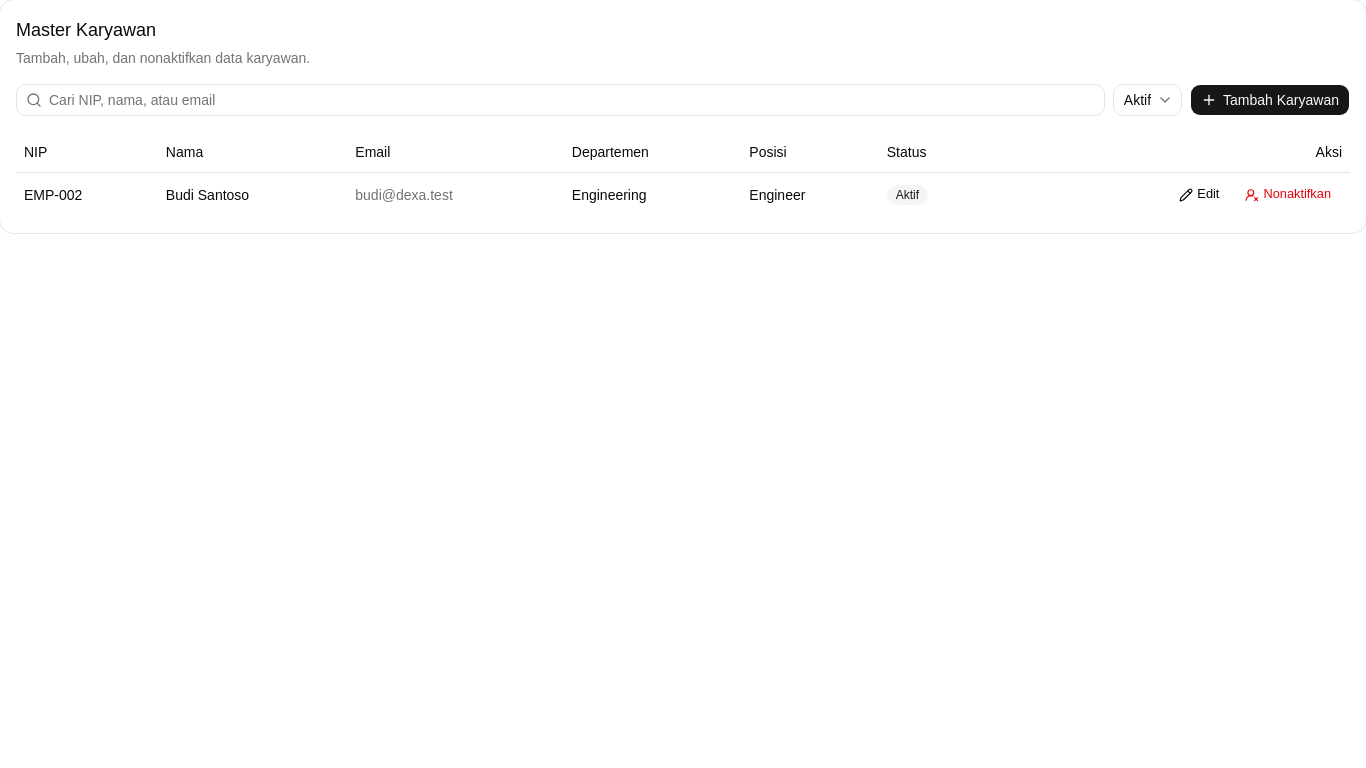
Test: EmployeesPage › deactivates an employee from the row action and refreshes the list
The width and height of the screenshot is (1366, 768).
Expected: the text "Budi Santoso" is shown, 158,172 -> 347,216
Click the button with aria-label "Nonaktifkan Budi Santoso": click(1288, 194) 1234,180 -> 1342,208
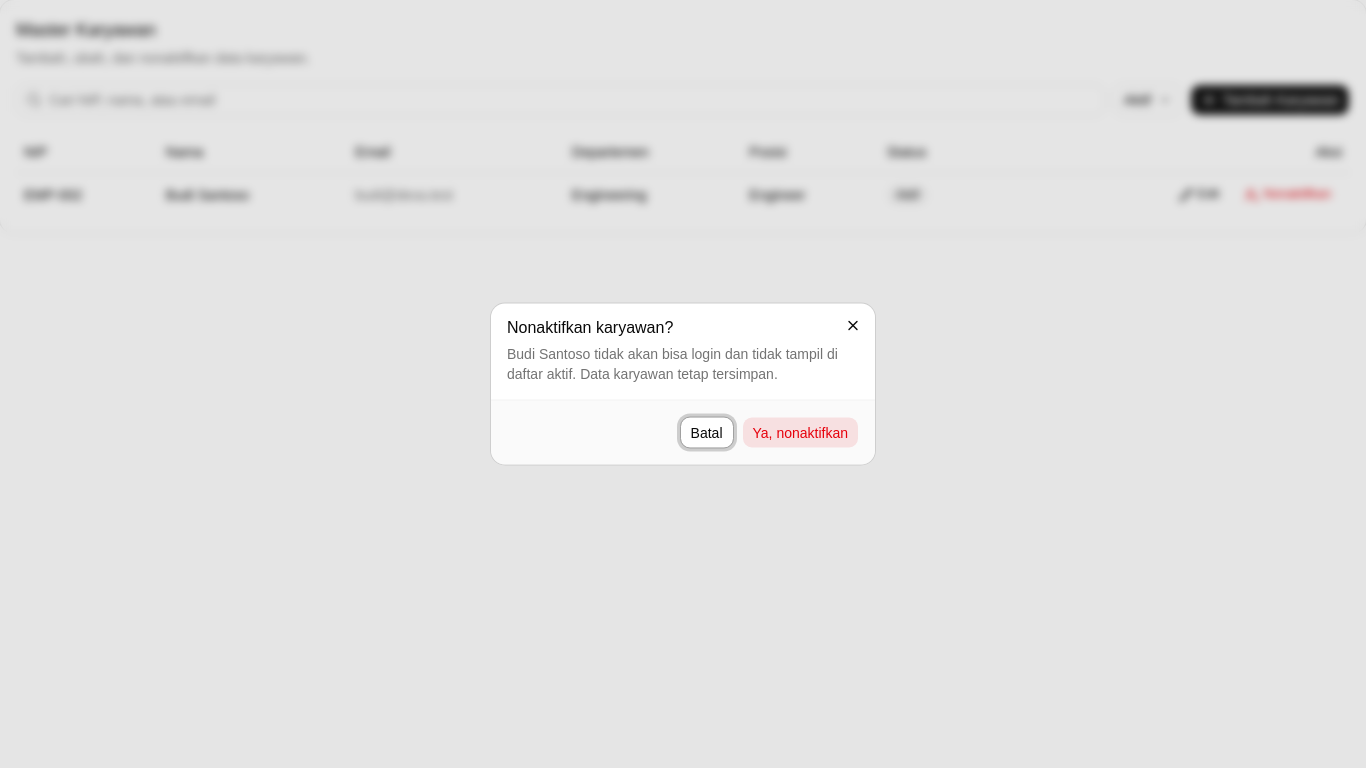
Click the button "Ya, nonaktifkan": click(800, 432) 742,416 -> 859,448
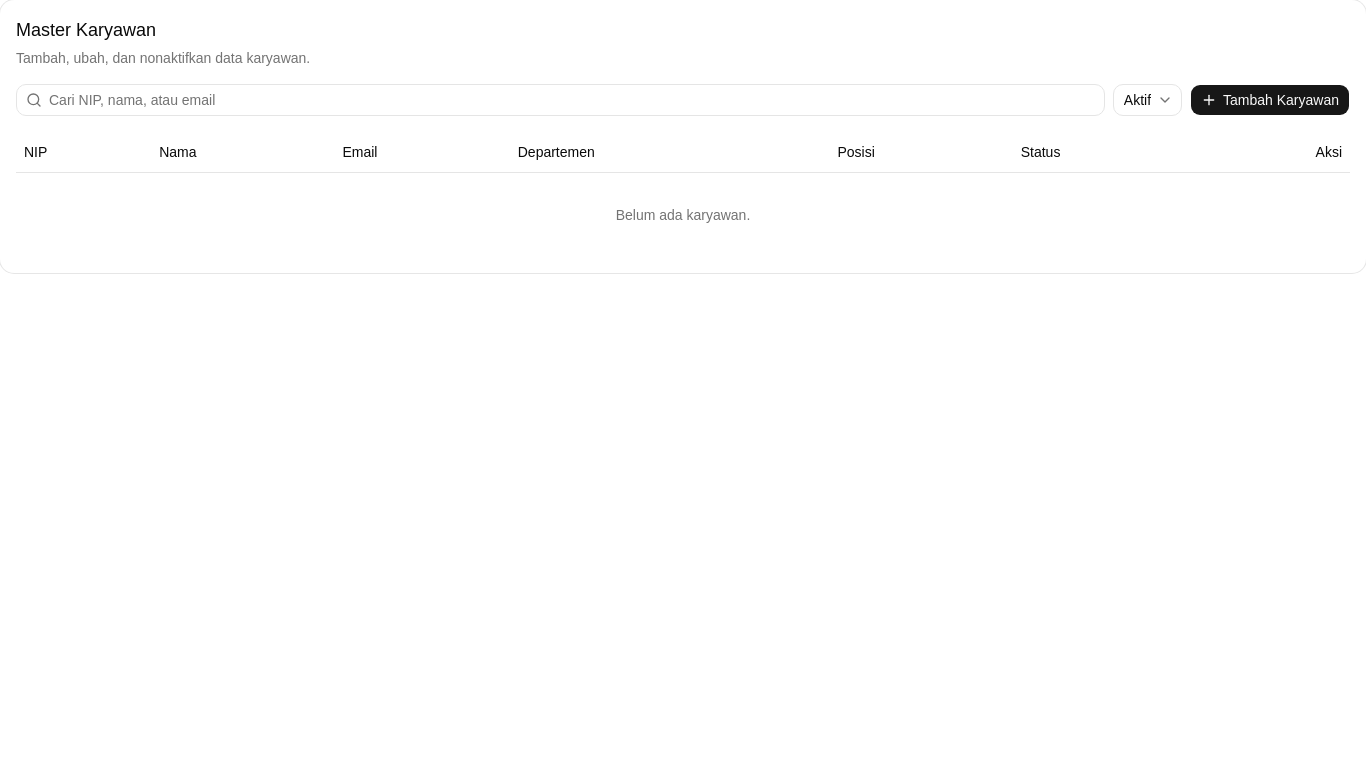
Expected: the text "Budi Santoso" is gone
